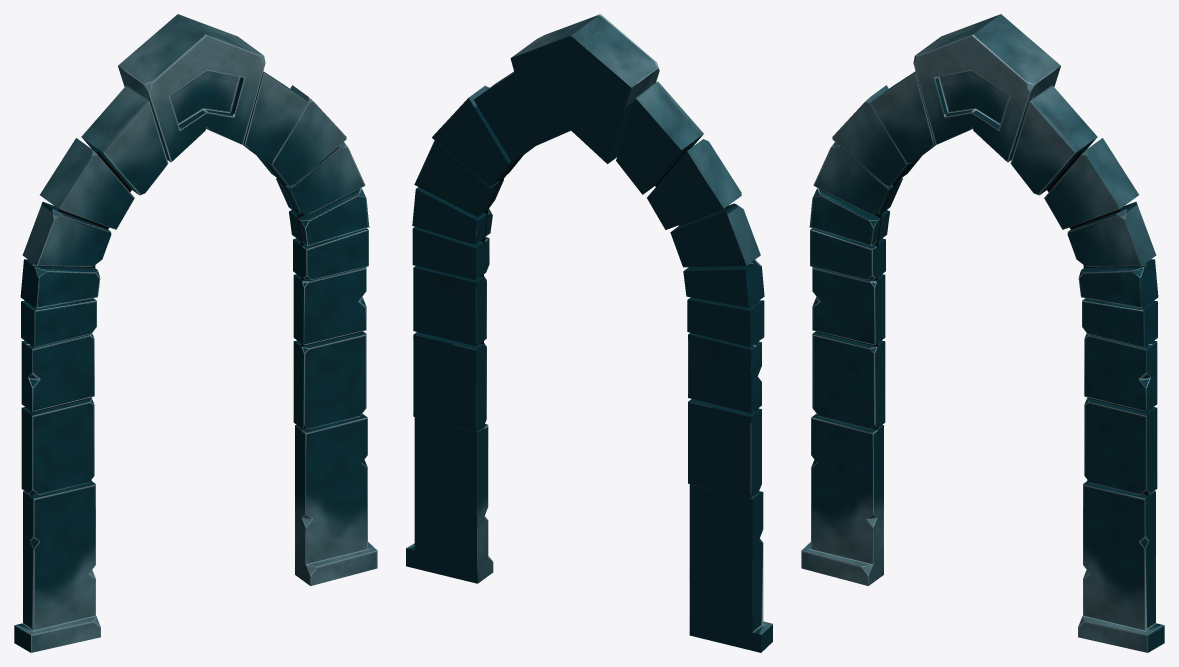
Rendered from portal de pedras.fbx.
The picture shows the model from 3 angles, left to right: view 1: azimuth 30°, elevation 25°; view 2: azimuth 150°, elevation 25°; view 3: azimuth 330°, elevation 25°; orthographic projection.
Parts seen in each view (by area): view 1: portal de pedras; view 2: portal de pedras; view 3: portal de pedras.
Part boxes in pixels (x1,y1,x2,y2): portal de pedras: (14,14,377,652); portal de pedras: (406,14,772,652); portal de pedras: (801,14,1164,652).
Bounding box in the file's own units: 372 × 585 × 53.73.
1 material, 1 textured.
